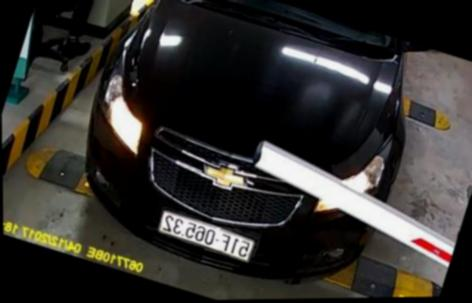License_Plate: (145, 204, 262, 271)
